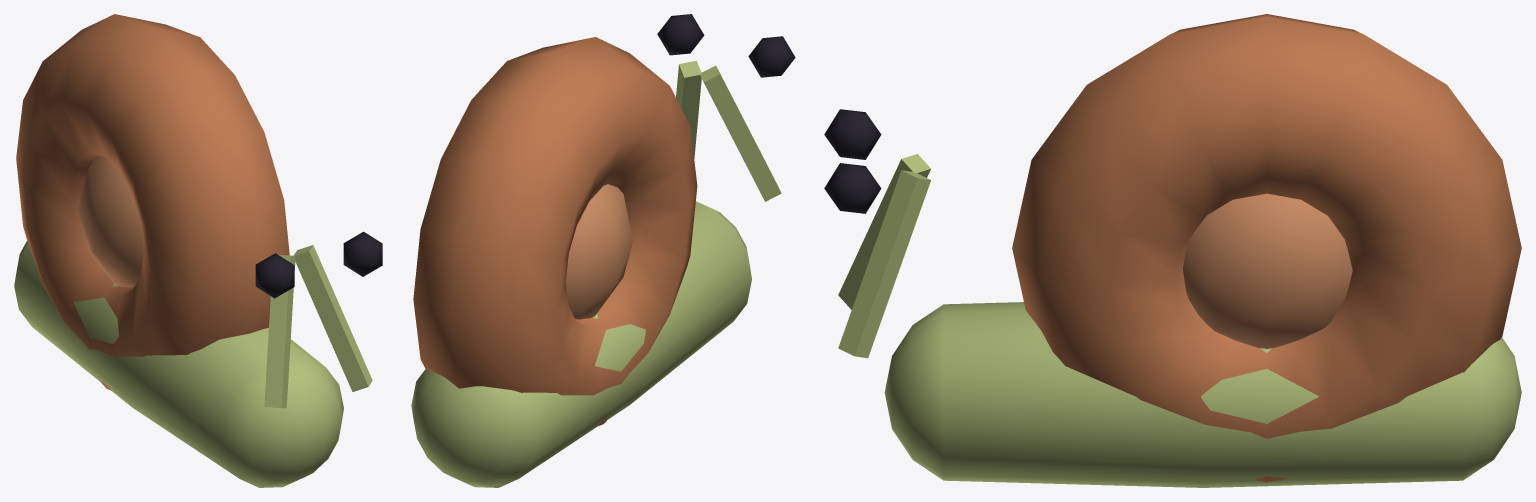
The model's file is snail.fbx.
3 renders of one model, left to right at view 1: azimuth 30°, elevation 25°; view 2: azimuth 150°, elevation 25°; view 3: azimuth 270°, elevation 25°, orthographic. The views are drawn at different scales.
Visible parts, largest first — view 1: Body, Head; view 2: Body, Head; view 3: Body, Head.
Boxes of the visible parts, box(x1,y1,x2,y2) form: Body: box(14, 14, 343, 487); Head: box(255, 231, 382, 408); Body: box(411, 37, 751, 487); Head: box(657, 14, 795, 201); Body: box(884, 14, 1521, 487); Head: box(824, 109, 930, 358).
Size of the model in its own units: 0.06 by 0.16 by 0.219.
